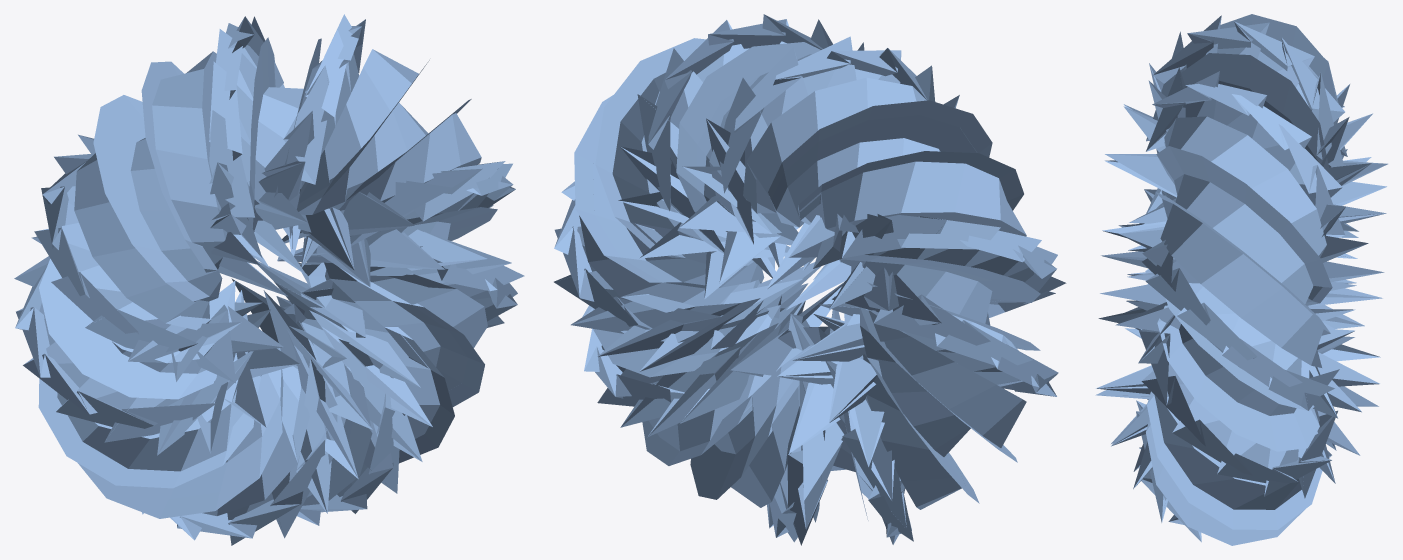
The model's file is spike_torus.gltf.
3 renders of one model, left to right at view 1: azimuth 30°, elevation 25°; view 2: azimuth 150°, elevation 25°; view 3: azimuth 270°, elevation 25°, orthographic. The views are drawn at different scales.
Parts seen in each view (by area): view 1: Torus; view 2: Torus; view 3: Torus.
Boxes of the visible parts, box(x1,y1,x2,y2) form: Torus: box(14, 14, 524, 545); Torus: box(554, 14, 1066, 545); Torus: box(1095, 14, 1387, 545).
Bounding box in the file's own units: 3.28 × 3.28 × 1.8.
